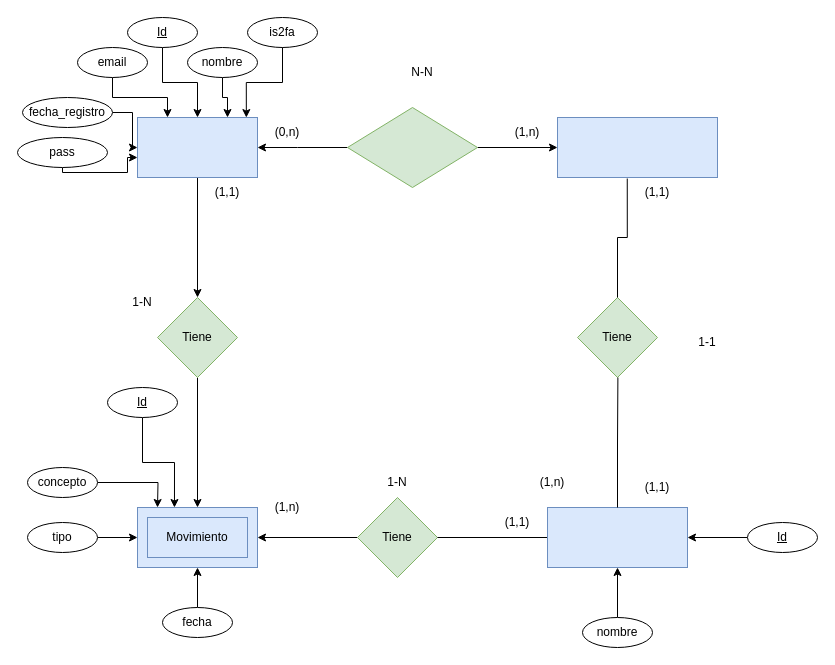
The diagram is 835 pixels wide and 665 high, and some of its shapes have lost their labels. Here are the shapes that lost their labels. From the top down, the centre of each, then its label:
[197,147]: Usuario
[412,147]: Se relaciona con
[637,147]: id_usuario x id_categoria
[617,537]: categoria
